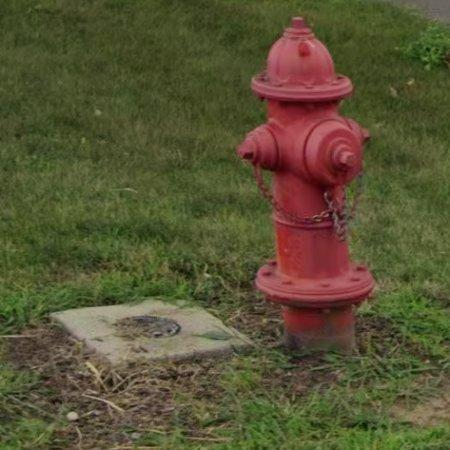a fire hydrant: (237, 17, 375, 351)
